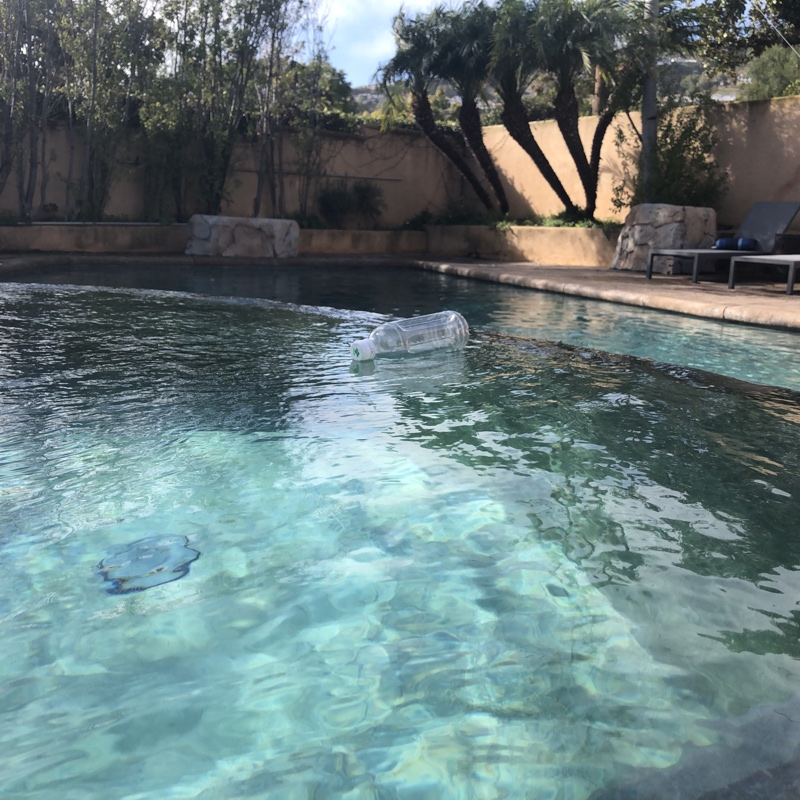Plastic Bottle: (349, 305, 473, 368)
